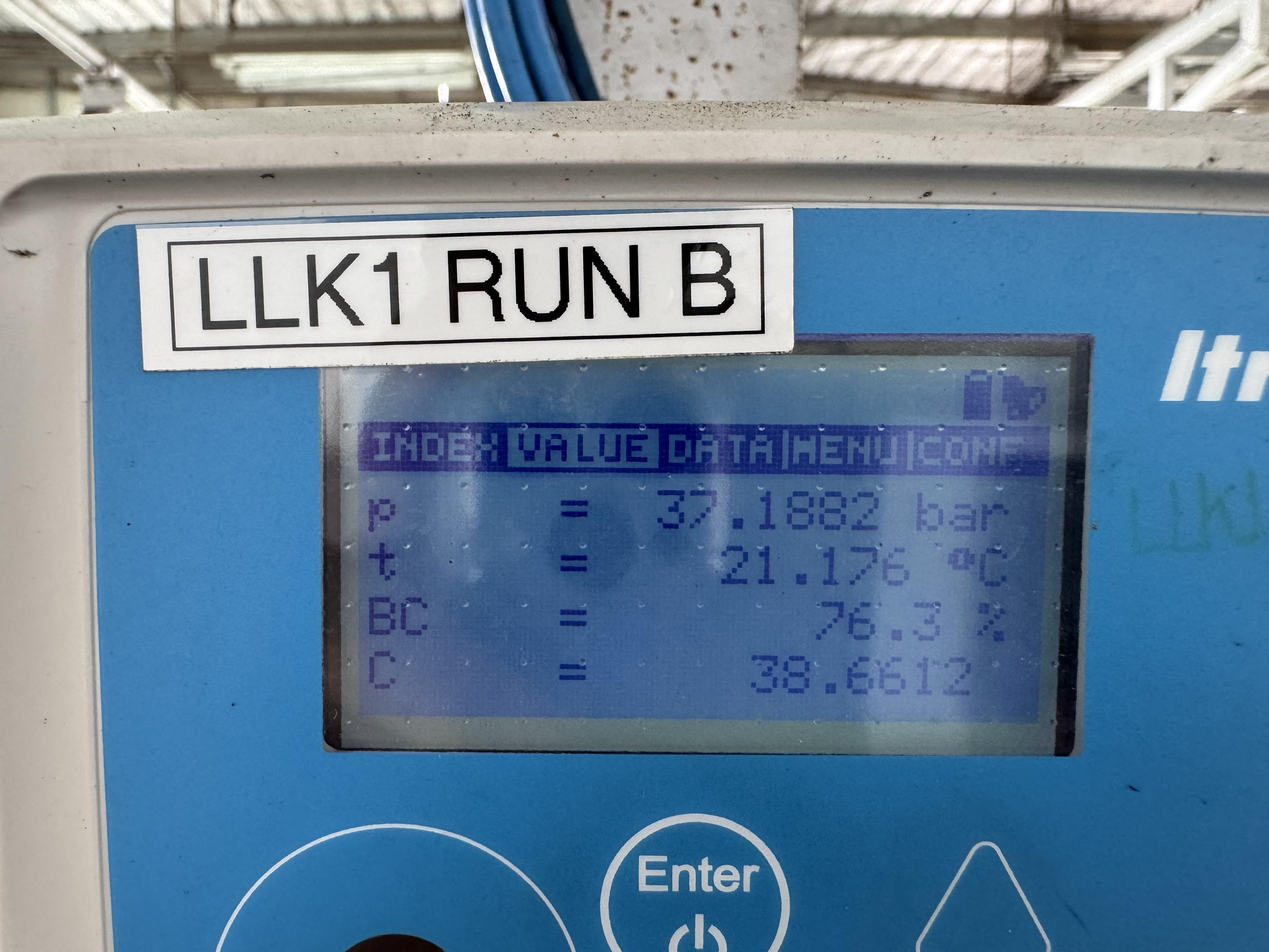digital_screen: (318, 335, 1095, 759)
